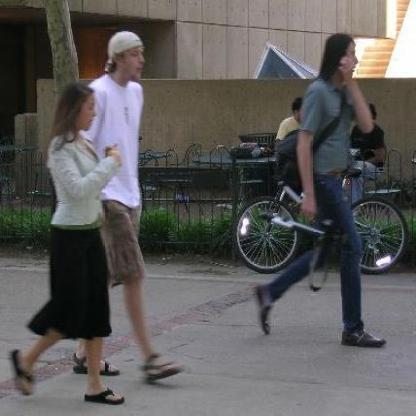person: (255, 30, 389, 350), (90, 23, 181, 383), (26, 79, 126, 406)
